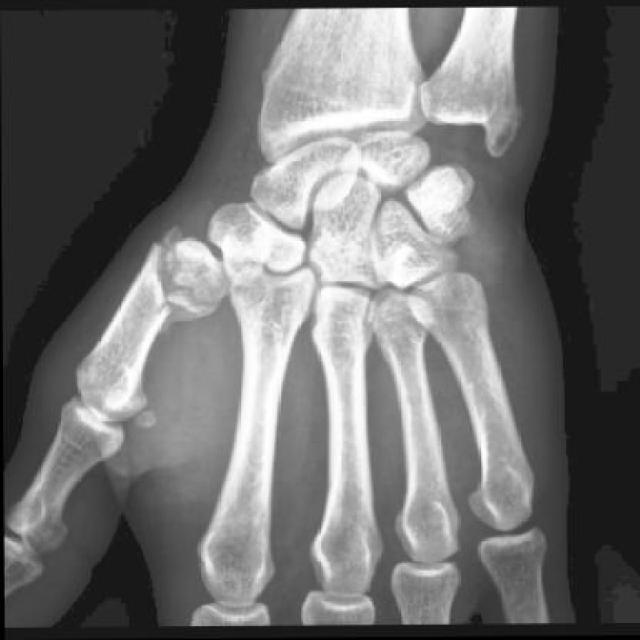Fracture: (140, 229, 216, 331)
